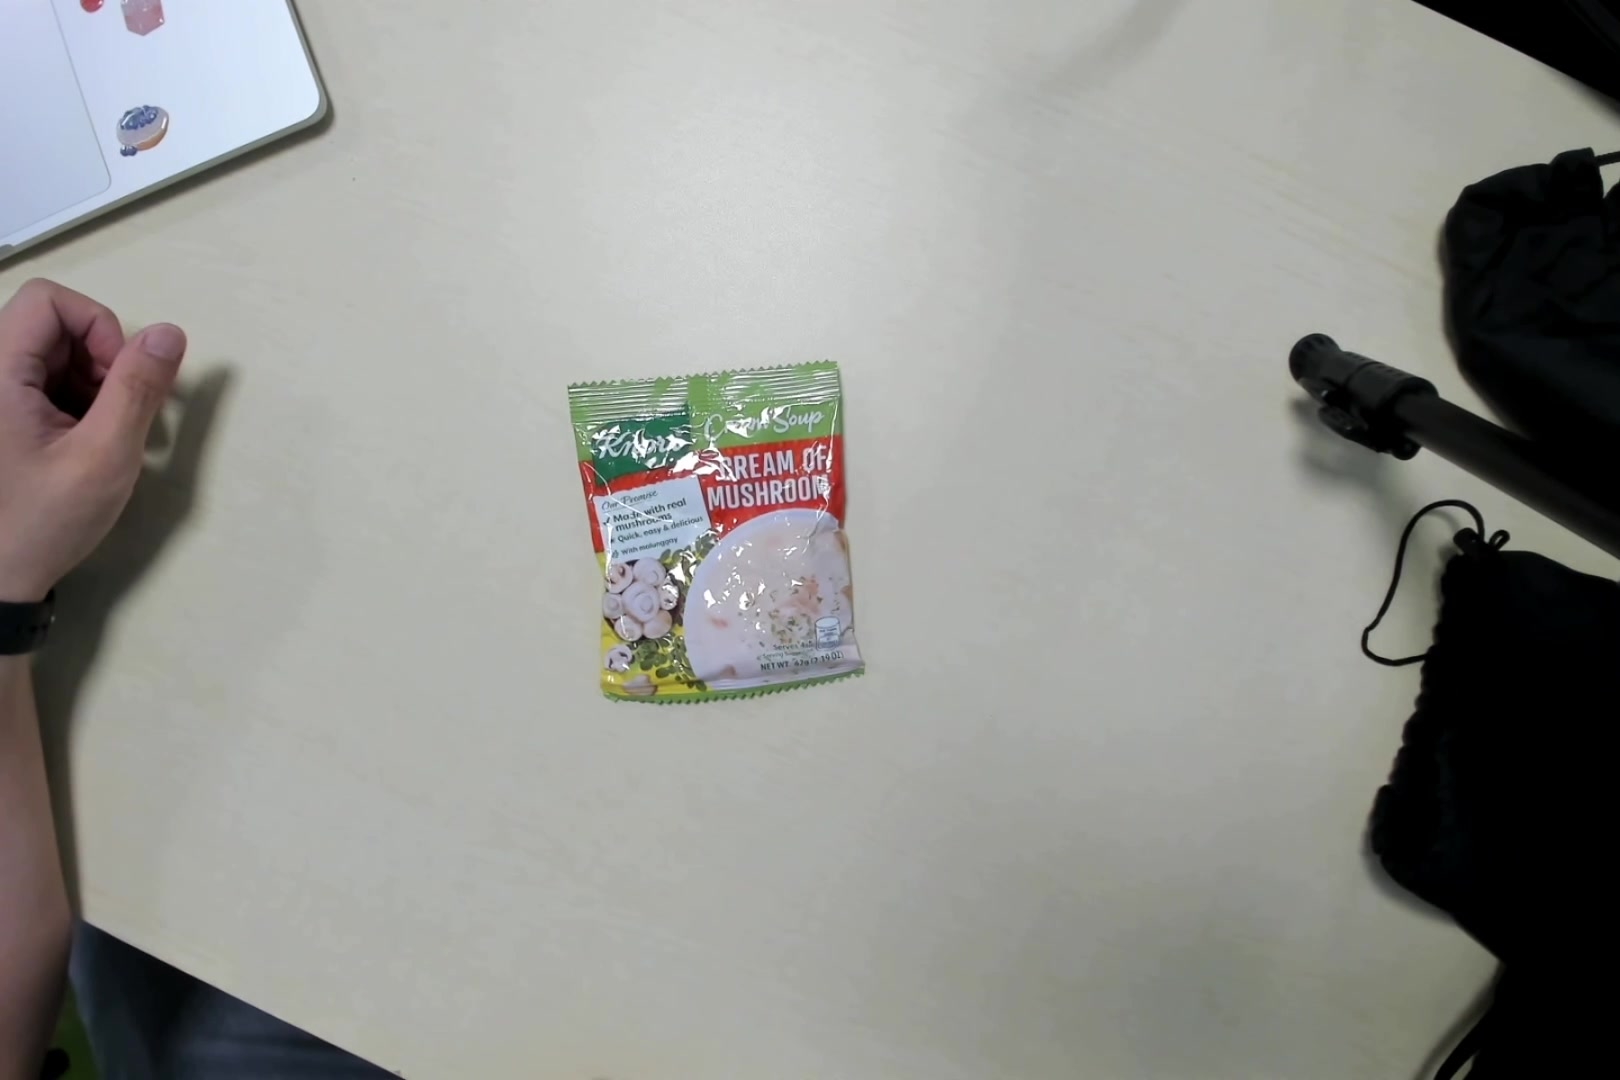OtherBakingNeeds_0-99g_NonHalal_NonHealthy: (560, 366, 862, 708)
